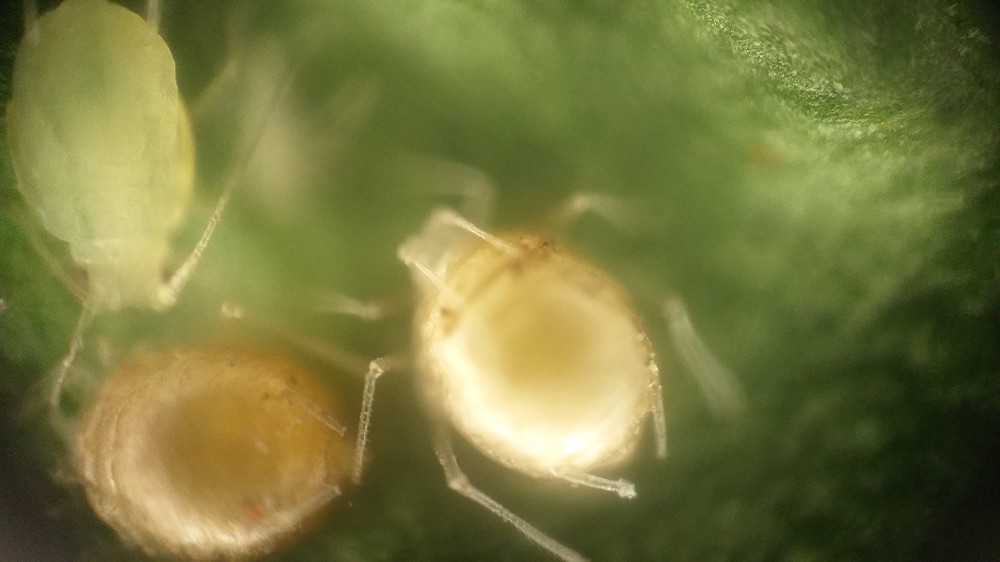Pulgon: (304, 144, 751, 562), (13, 309, 431, 562), (1, 1, 287, 359)
